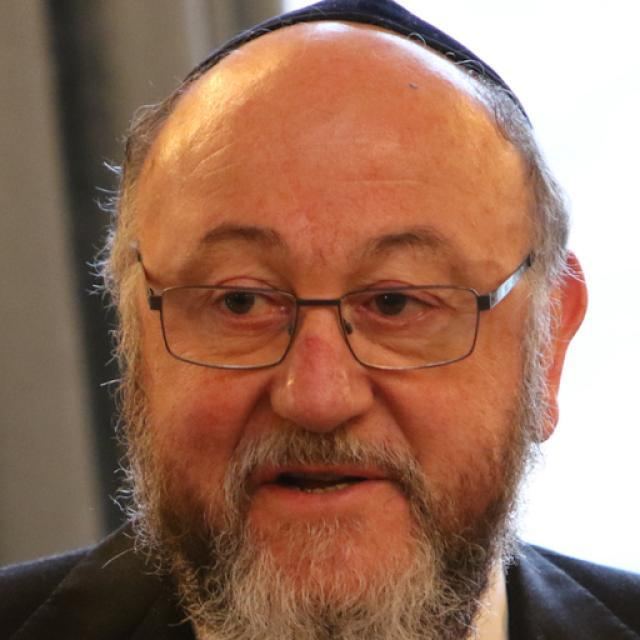surprise: (136, 20, 535, 640)
